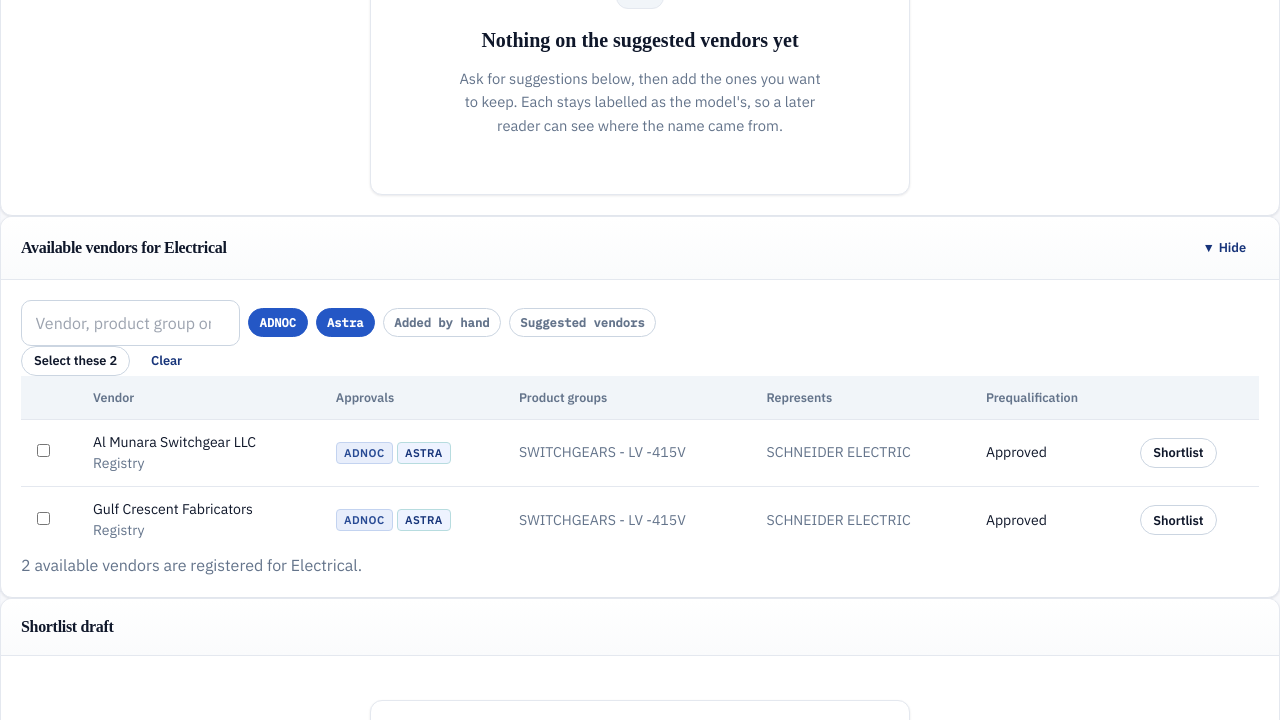
it: ItemDetail › still shows the refusals after the batch reloads the screen
(page scrolled)
Click the button "Select these 2". click: (76,361)
box: [21, 346, 130, 376]
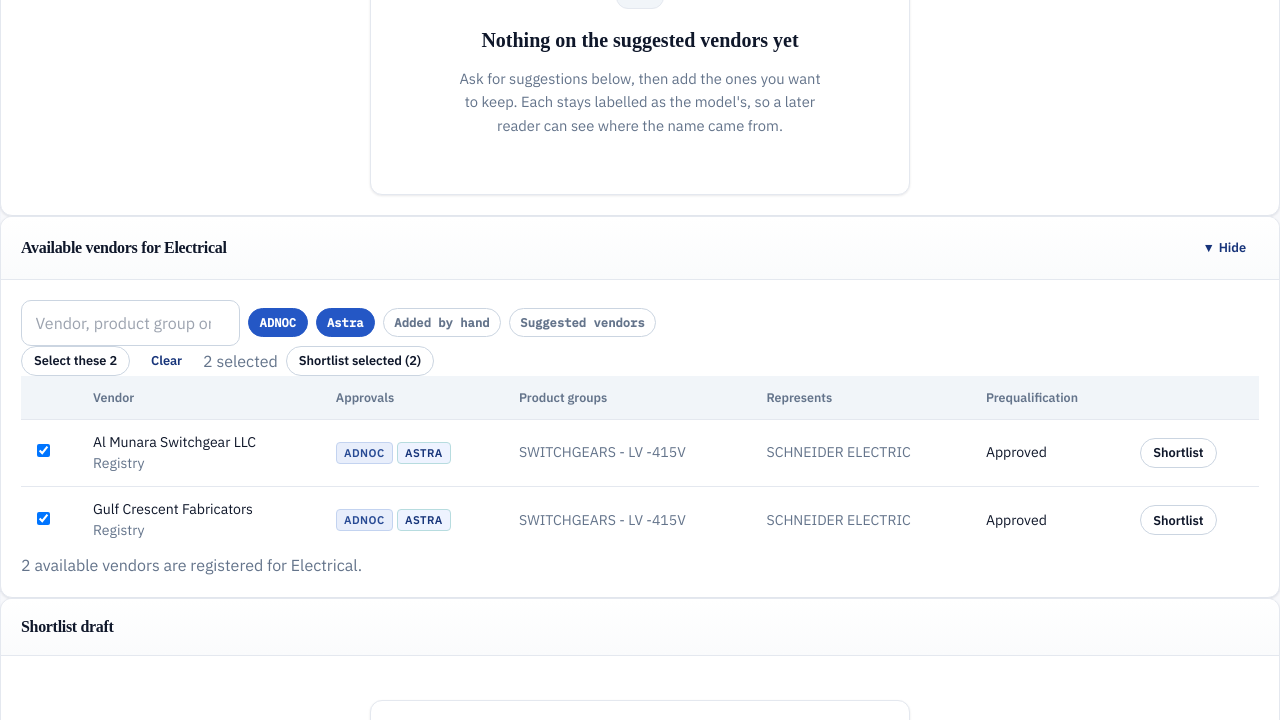
Click the button "Shortlist selected (2)". click: (360,361)
box: [286, 346, 434, 376]
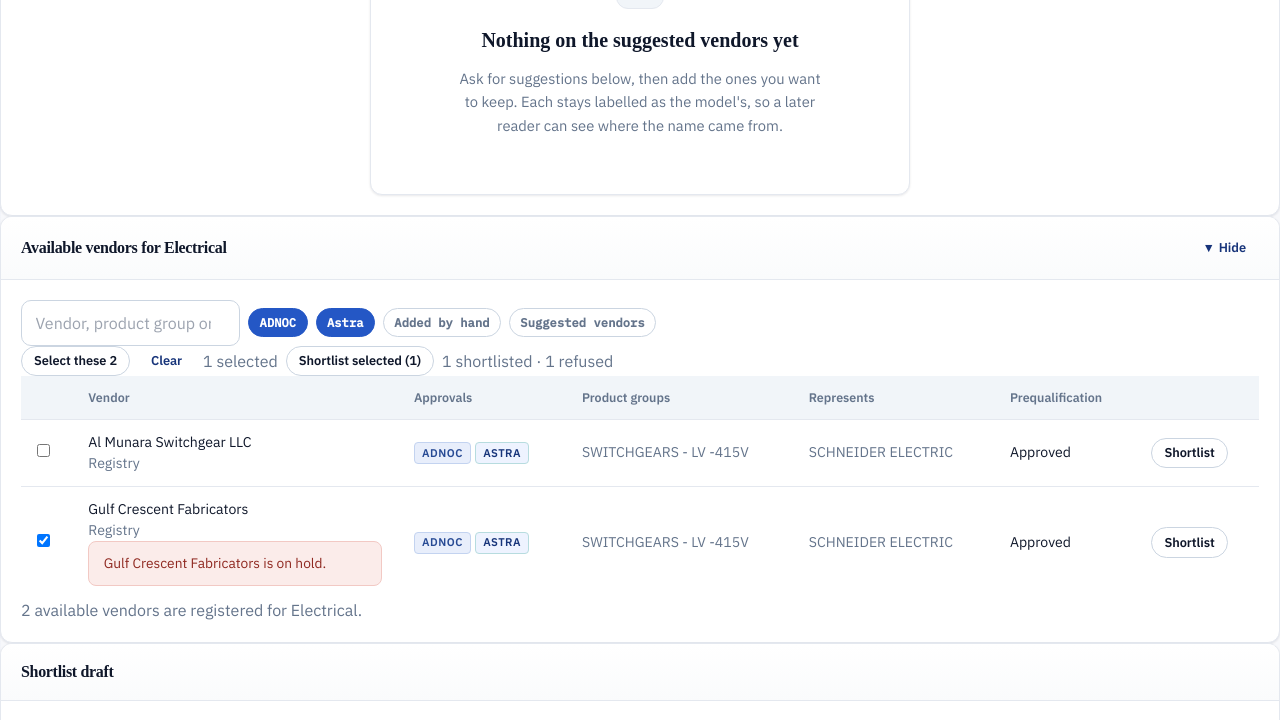
Now the text "1 shortlisted · 1 refused" is shown, box [442, 349, 613, 373]
Now the text "Gulf Crescent Fabricators is on hold." is shown, box [88, 541, 382, 586]
Now the text "1 selected" is shown, box [203, 349, 278, 373]
